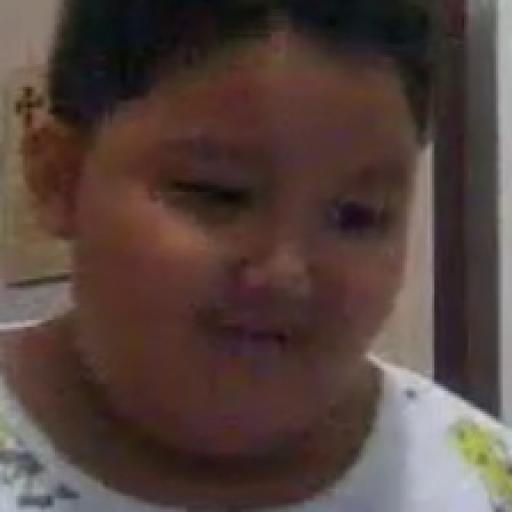Autism: (51, 19, 452, 422)
